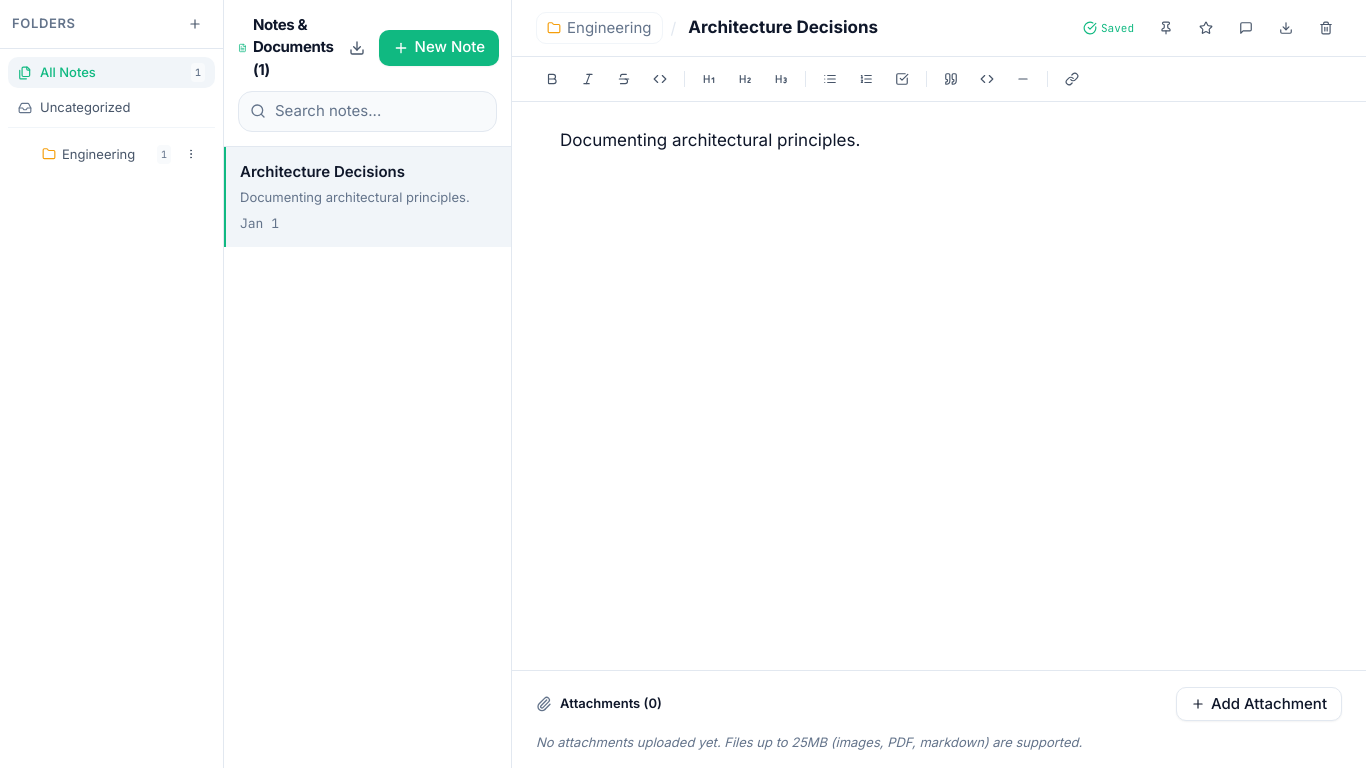
Test: káno̱ Desktop Notes, Folders & Editor Persistence › detects optimistic concurrency conflicts and displays the conflict banner
Replace the text in the field showing "Architecture Decisions" with "Local Title Edit" at (876, 28), box 684,13 -> 1067,43
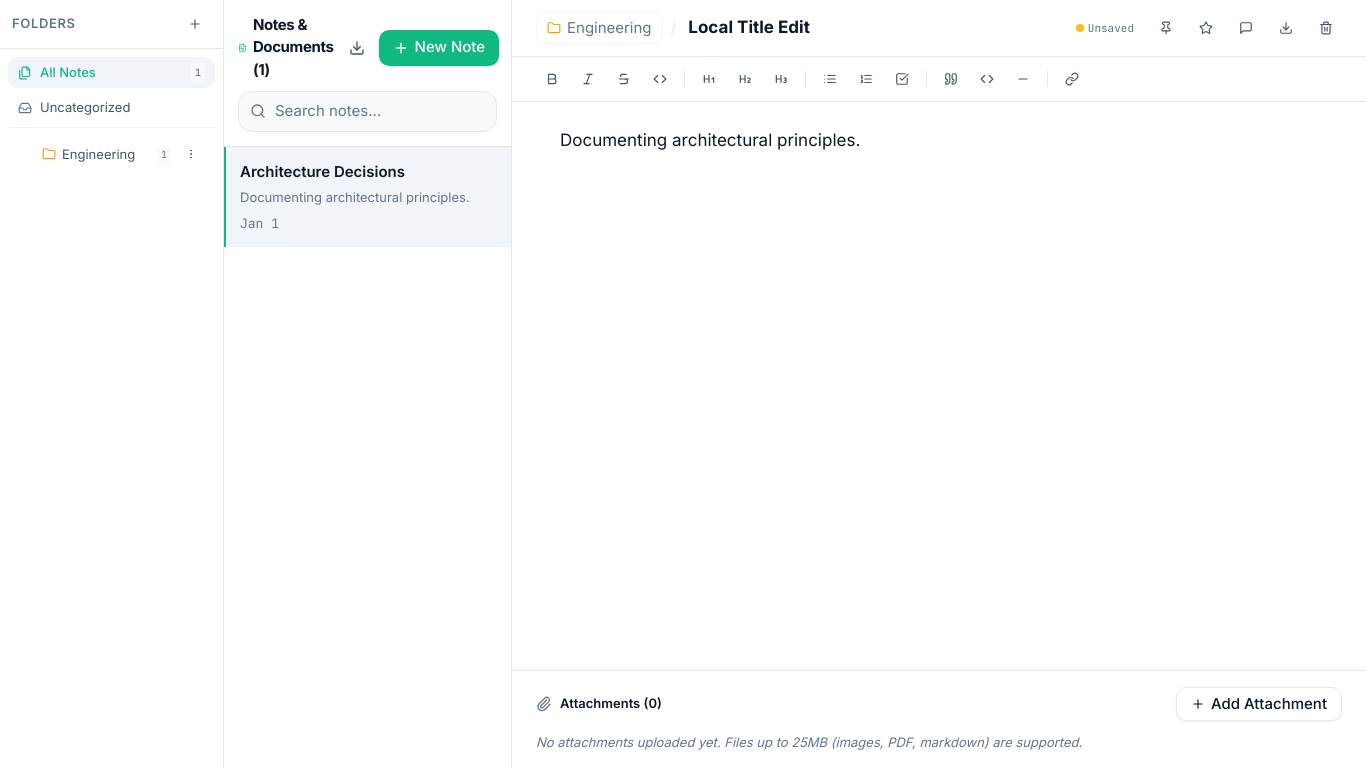
Leave the field showing "Architecture Decisions", box 684,13 -> 1060,43
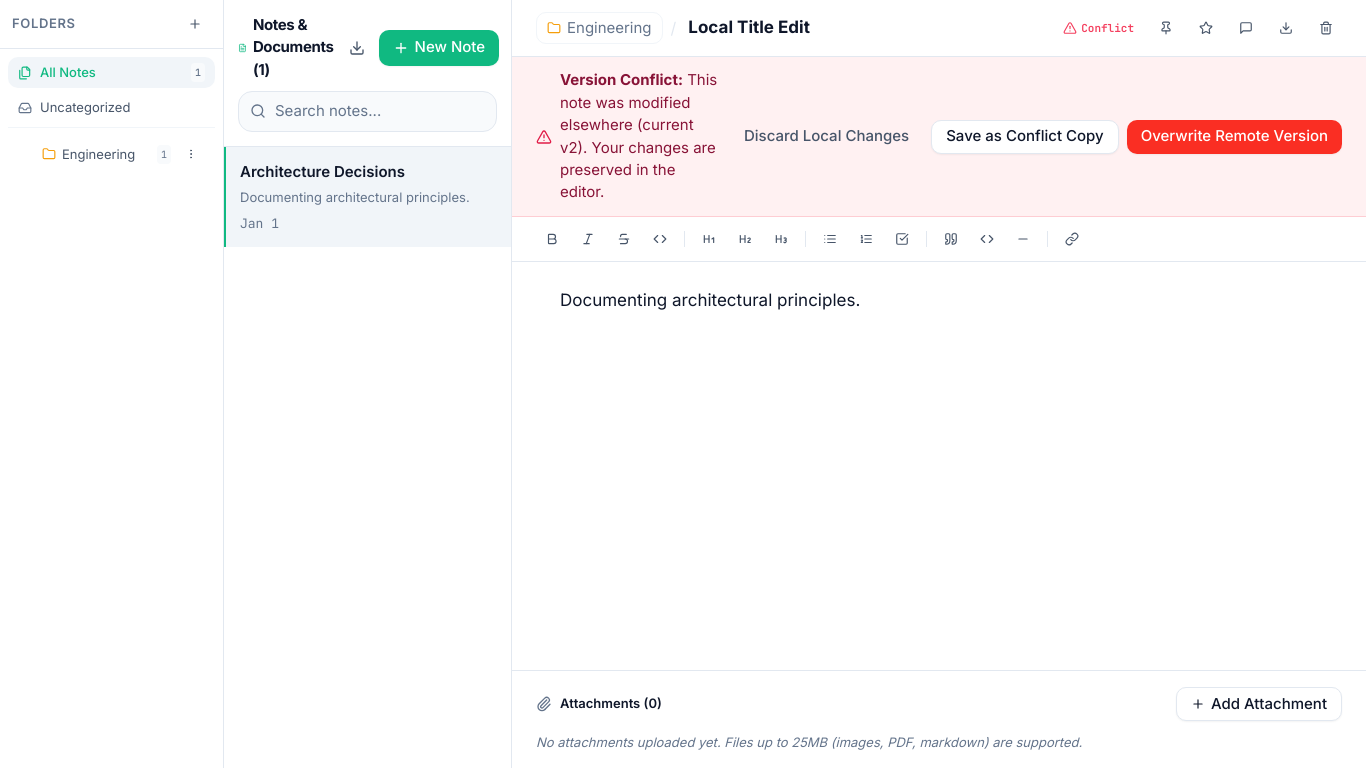
Check: the text "Version Conflict:" is shown, box 560,70 -> 683,89
Check: the button "Overwrite Remote Version" is shown, box 1127,120 -> 1342,154
Check: the button "Save as Conflict Copy" is shown, box 931,120 -> 1119,154
